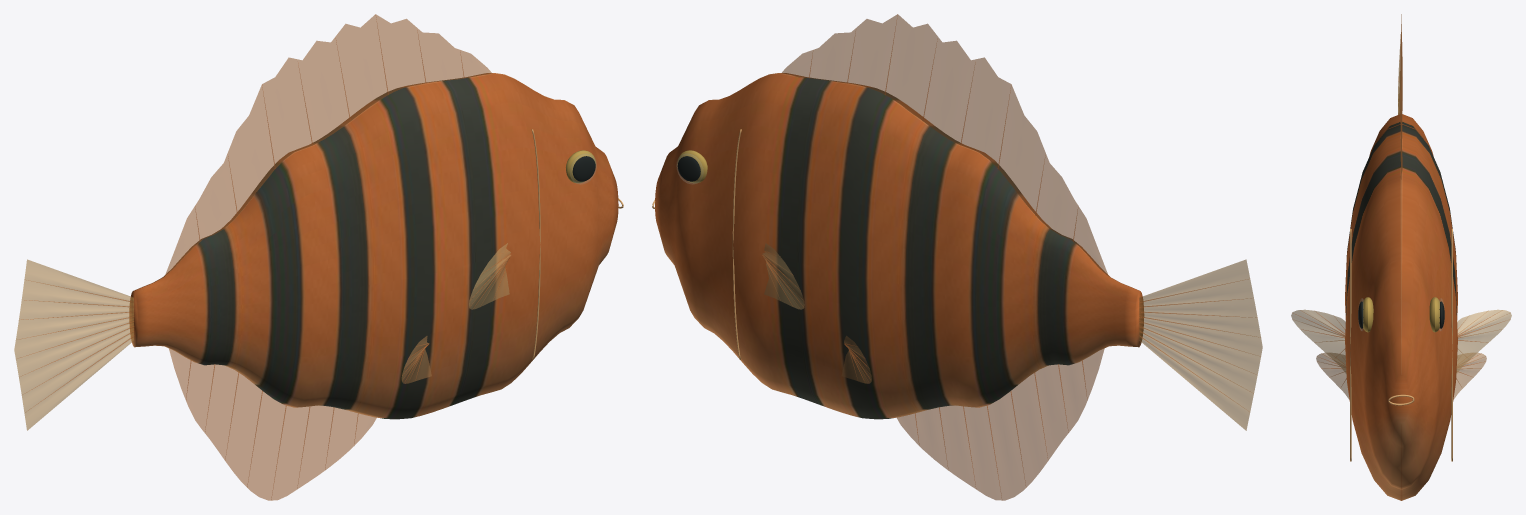
Rendered from flame-mobile.glb.
The picture shows the model from 3 angles, left to right: view 1: azimuth 30°, elevation 25°; view 2: azimuth 150°, elevation 25°; view 3: azimuth 270°, elevation 25°; orthographic projection.
Parts seen in each view (by area): view 1: skin, dorsal, anal, tail, dorsal-ray, pectoral-left, pelvic-left; view 2: skin, dorsal, anal, tail, dorsal-ray, pectoral-left, pelvic-left; view 3: skin, pectoral-left, pelvic-left, operculum, eye-iris--1, dorsal-ray, dorsal.
Boxes of the visible parts, left/top/right/bottom form: skin: left=129, top=73, right=618, bottom=419; dorsal: left=164, top=14, right=491, bottom=276; anal: left=169, top=348, right=376, bottom=500; tail: left=14, top=259, right=133, bottom=430; dorsal-ray: left=20, top=17, right=510, bottom=499; pectoral-left: left=469, top=243, right=511, bottom=309; pelvic-left: left=401, top=336, right=431, bottom=383; skin: left=655, top=73, right=1143, bottom=419; dorsal: left=782, top=14, right=1108, bottom=276; anal: left=897, top=348, right=1104, bottom=500; tail: left=1139, top=259, right=1262, bottom=430; dorsal-ray: left=762, top=16, right=1260, bottom=488; pectoral-left: left=762, top=243, right=804, bottom=309; pelvic-left: left=841, top=336, right=871, bottom=383; skin: left=1345, top=114, right=1457, bottom=500; pectoral-left: left=1291, top=309, right=1511, bottom=373; pelvic-left: left=1316, top=352, right=1486, bottom=399; operculum: left=1350, top=229, right=1452, bottom=461; eye-iris--1: left=1363, top=297, right=1439, bottom=332; dorsal-ray: left=1293, top=60, right=1509, bottom=386; dorsal: left=1400, top=14, right=1402, bottom=179.
Bounding box in the file's own units: 0.5972 × 0.4361 × 0.1875.
11 materials, 1 textured.
